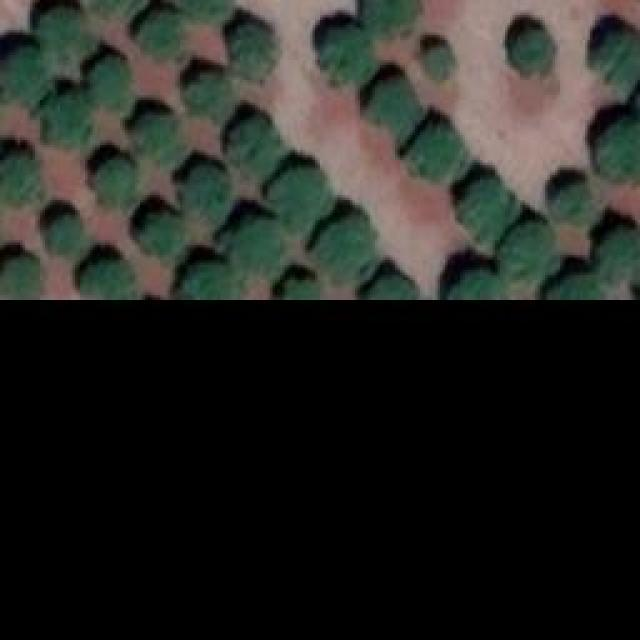Tree: (265, 168, 333, 233), (458, 178, 521, 241), (220, 220, 283, 280), (500, 218, 558, 283), (315, 218, 375, 278), (410, 123, 465, 186), (40, 90, 93, 150), (368, 72, 421, 130), (318, 25, 371, 80), (38, 3, 91, 58), (183, 165, 233, 223), (133, 13, 186, 66), (173, 260, 243, 298), (230, 118, 280, 171), (85, 55, 133, 110), (0, 45, 45, 103), (80, 253, 135, 298), (597, 225, 640, 282), (593, 33, 638, 86), (595, 120, 640, 173), (228, 23, 273, 76), (135, 207, 183, 255), (548, 180, 598, 225), (445, 265, 505, 300), (513, 30, 556, 78), (93, 157, 136, 205), (0, 153, 40, 203), (133, 110, 178, 153), (363, 0, 418, 35), (185, 70, 228, 113), (545, 270, 608, 298), (43, 213, 83, 256), (363, 270, 418, 300), (0, 255, 38, 298), (423, 45, 456, 80), (80, 0, 135, 18), (278, 275, 321, 298), (177, 0, 225, 18)
